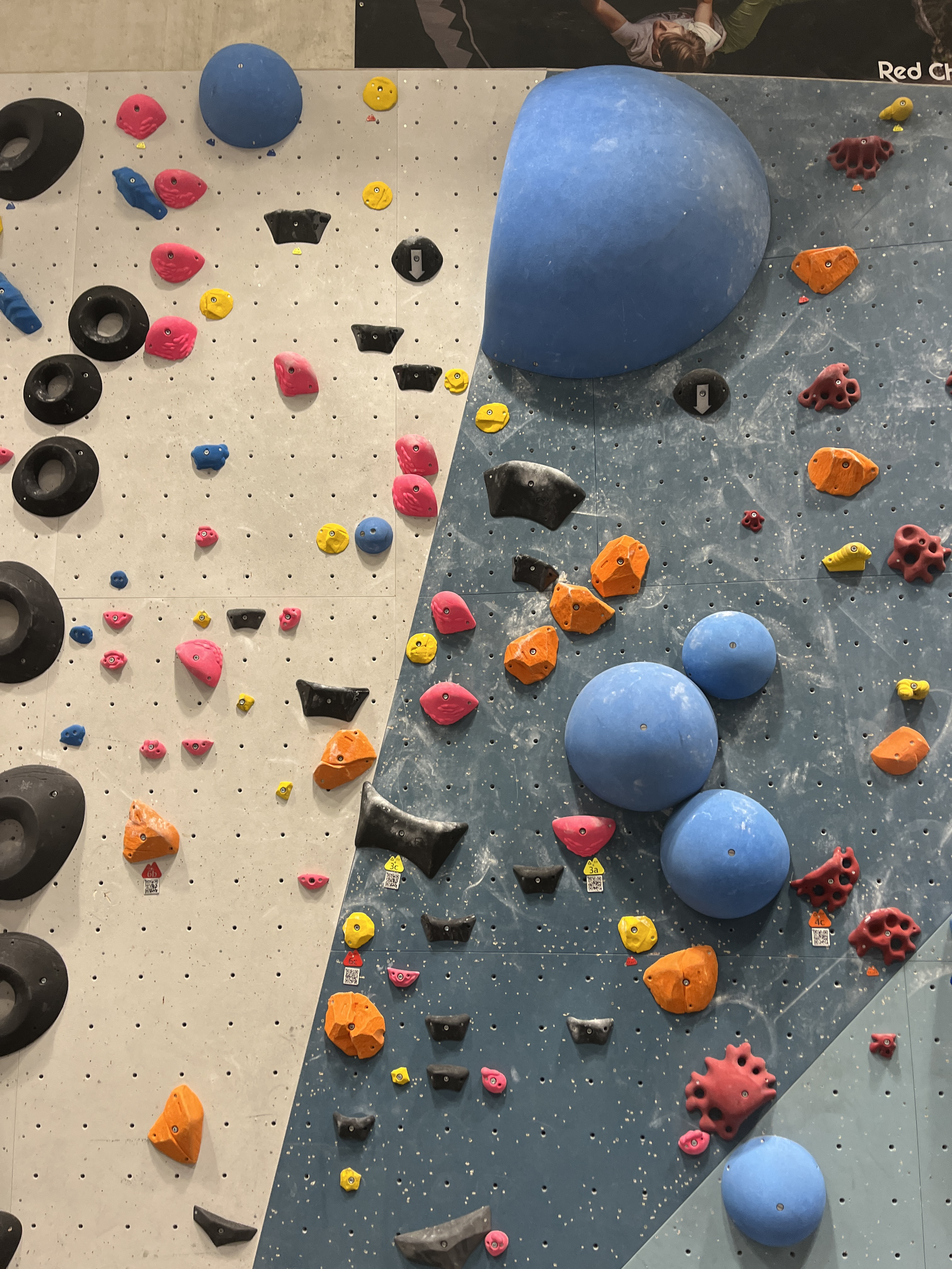hold: (481, 67, 773, 378), (567, 664, 719, 811), (664, 791, 793, 917), (725, 1136, 829, 1249), (0, 765, 85, 900), (356, 780, 468, 877), (198, 44, 301, 148), (685, 1042, 776, 1141), (0, 98, 84, 201), (683, 613, 779, 700), (0, 933, 68, 1055), (0, 561, 64, 683), (11, 437, 98, 515), (485, 461, 584, 529), (394, 1206, 492, 1269), (70, 286, 150, 362), (23, 355, 101, 423), (642, 947, 716, 1014), (148, 1084, 203, 1164), (792, 846, 860, 908), (849, 907, 921, 965), (326, 993, 384, 1059), (888, 524, 952, 583), (313, 729, 374, 789), (123, 800, 179, 861), (591, 537, 649, 595), (809, 448, 877, 497), (550, 583, 614, 634), (296, 679, 369, 722), (792, 247, 858, 294), (504, 627, 558, 682), (827, 137, 893, 181), (799, 363, 861, 409), (112, 167, 165, 219), (872, 727, 929, 773), (0, 273, 42, 334), (420, 681, 479, 724), (676, 370, 731, 415), (554, 816, 615, 856), (391, 235, 442, 282), (193, 1207, 256, 1244), (115, 94, 165, 140), (176, 640, 222, 688), (146, 316, 197, 359), (265, 211, 329, 244), (152, 243, 204, 282), (273, 353, 318, 396), (392, 475, 438, 516), (155, 169, 204, 207), (430, 592, 475, 632), (513, 555, 559, 592), (395, 435, 437, 475), (513, 864, 564, 895), (422, 915, 474, 943), (352, 324, 402, 353), (355, 516, 392, 554), (619, 915, 655, 953), (824, 542, 871, 571), (0, 1210, 22, 1269), (363, 76, 398, 111), (394, 364, 439, 391), (569, 1018, 613, 1044), (343, 913, 374, 948), (334, 1114, 374, 1141), (427, 1016, 469, 1041), (316, 524, 348, 554), (429, 1065, 469, 1089), (475, 403, 508, 432), (406, 632, 436, 663), (191, 445, 226, 470), (198, 290, 229, 318), (880, 97, 913, 122), (679, 1130, 709, 1154), (898, 678, 930, 700), (363, 182, 390, 208), (387, 966, 418, 988), (481, 1067, 506, 1093), (485, 1232, 508, 1257), (870, 1034, 896, 1056), (278, 607, 301, 630), (445, 369, 469, 391), (182, 738, 212, 755), (141, 740, 166, 760), (58, 726, 81, 746), (298, 874, 326, 890), (743, 510, 764, 531), (194, 526, 214, 546), (101, 651, 124, 668), (105, 612, 130, 627), (193, 610, 211, 629), (70, 627, 92, 642), (276, 781, 292, 801), (0, 445, 14, 466), (390, 1069, 407, 1085), (236, 696, 253, 711), (111, 572, 126, 588)
